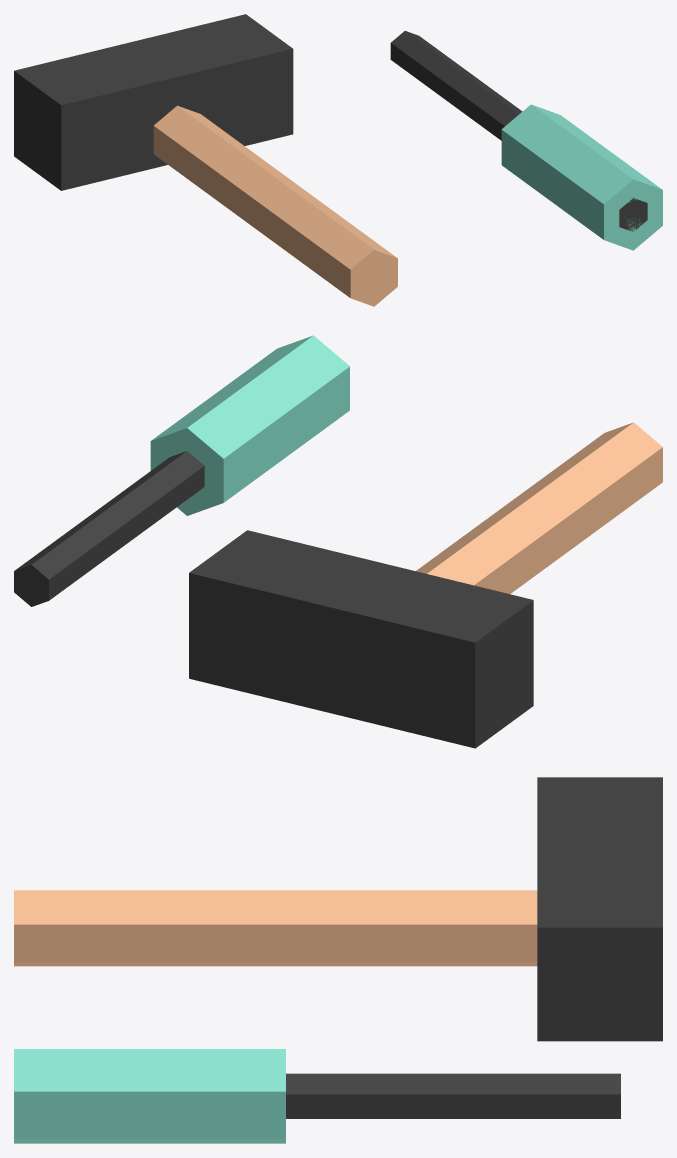
3 views of the same model, one above another, from view 1: azimuth 30°, elevation 25°; view 2: azimuth 150°, elevation 25°; view 3: azimuth 270°, elevation 25° (orthographic). The views are drawn at different scales.
Parts seen in each view (by area): view 1: Hammer head, Hammer handle, Driver grip, Screwdriver; view 2: Hammer head, Driver grip, Hammer handle, Screwdriver; view 3: Hammer handle, Hammer head, Driver grip, Screwdriver.
Boxes of the visible parts, x1,y1,x2,y2 form: Hammer head: (14,14,293,190); Hammer handle: (153,105,397,306); Driver grip: (501,104,662,250); Screwdriver: (390,31,647,231); Hammer head: (189,530,533,748); Driver grip: (150,335,349,515); Hammer handle: (416,422,662,593); Screwdriver: (14,451,204,606); Hammer handle: (14,890,537,966); Hammer head: (537,777,662,1041); Driver grip: (14,1049,285,1143); Screwdriver: (286,1073,620,1118).
Size of the model in its own units: 0.2967 by 0.065 by 0.31.
Materials: 1 (1 with a texture image).
